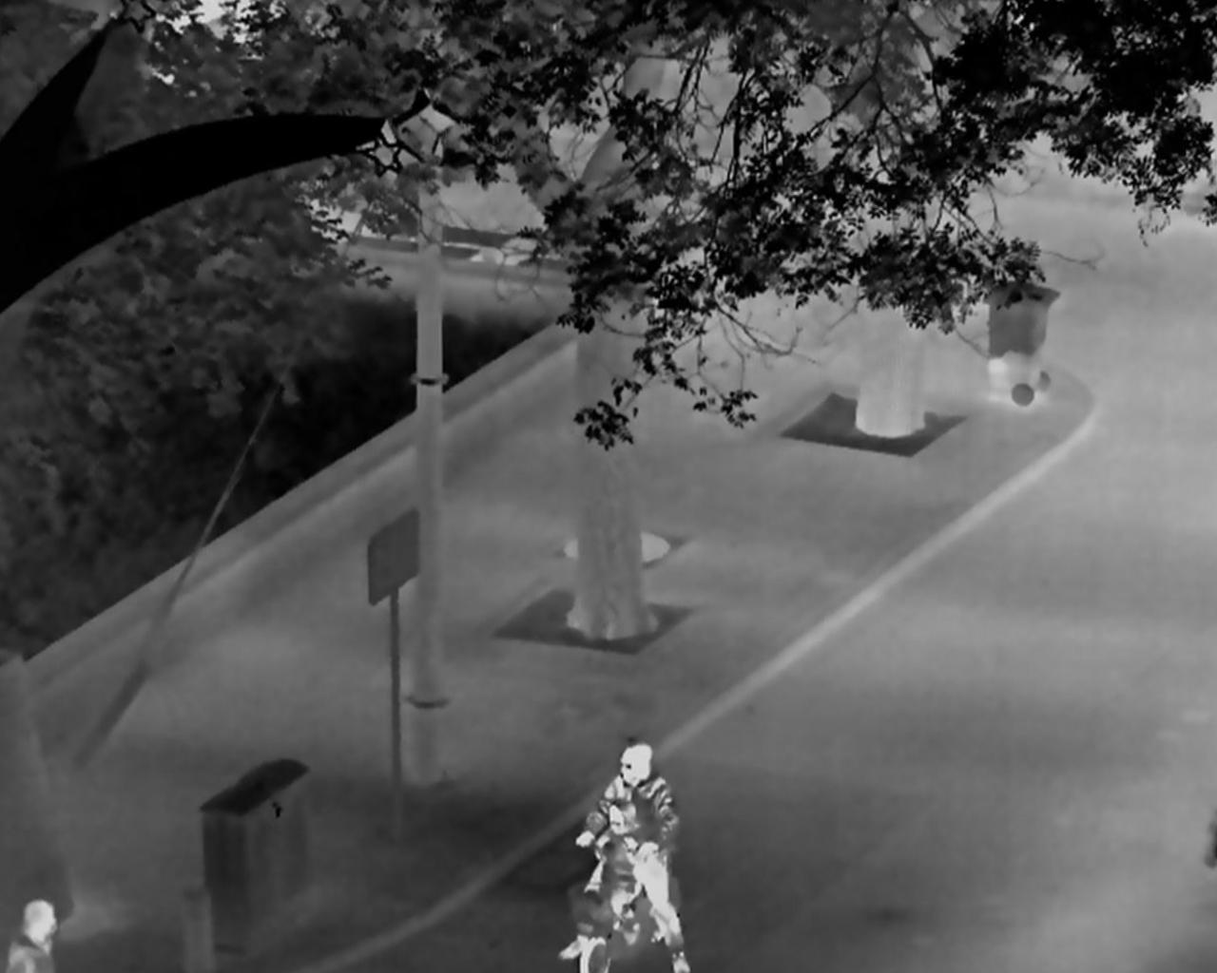person: (556, 736, 695, 973), (591, 798, 646, 946), (5, 897, 62, 973)
